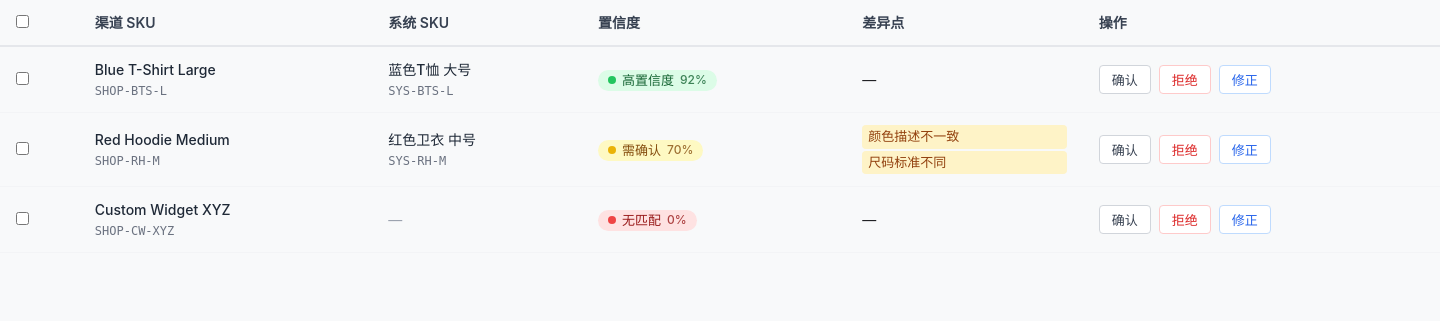
Test: SKUMappingTable › select all checkbox selects all rows
Click the checkbox named "全选": (22, 22) left=16, top=15, right=29, bottom=28
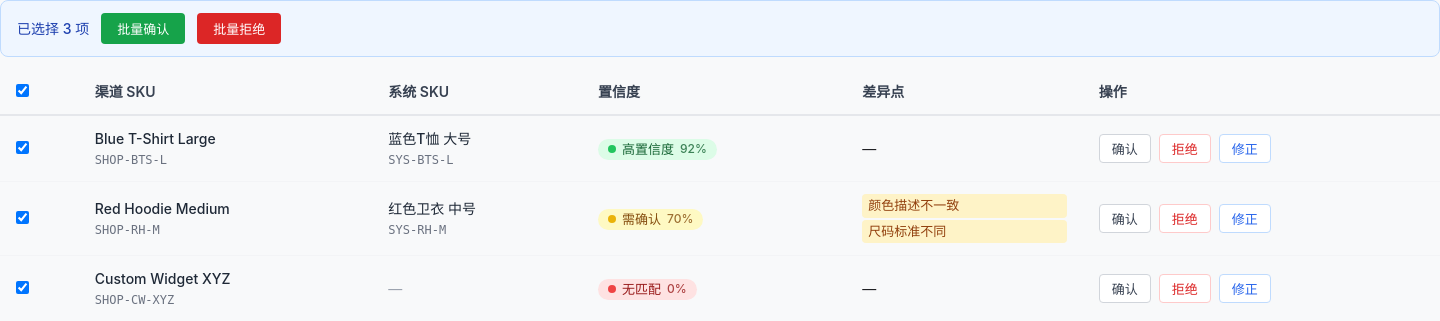
Now the text "已选择 3 项" is shown, box left=17, top=18, right=89, bottom=39
